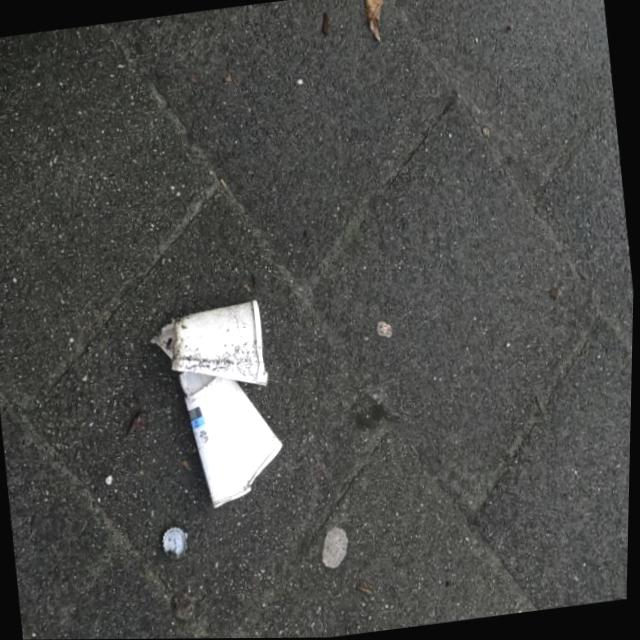Cup: (168, 295, 294, 513)
